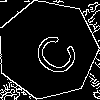C: (22, 24, 82, 81)
